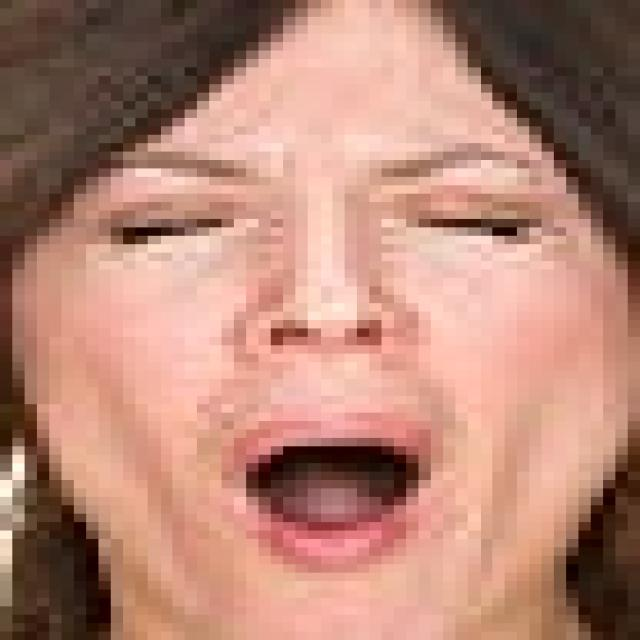Anxiety: (12, 0, 628, 632)
